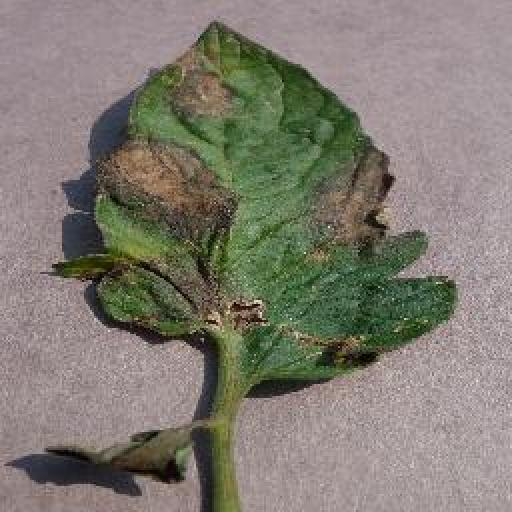disease_tomato: (56, 22, 459, 386)
